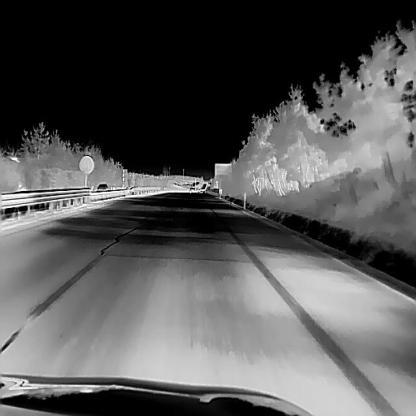car: (96, 182, 107, 189)
